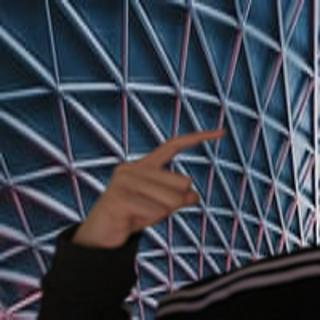WHY: (72, 122, 232, 249)
